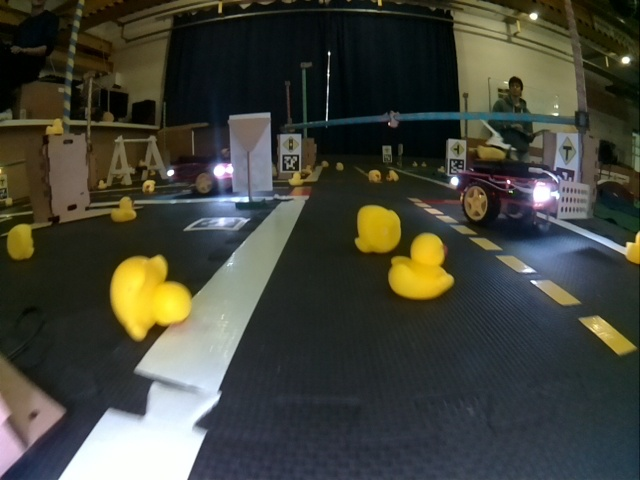Duckie: (111, 254, 190, 339), (389, 235, 454, 299), (355, 205, 400, 251), (8, 225, 35, 256), (110, 197, 135, 222), (46, 119, 62, 133), (290, 172, 302, 184), (142, 180, 154, 191), (370, 170, 381, 182), (388, 170, 398, 180), (336, 163, 344, 170)
Duckiebot: (458, 163, 590, 226), (167, 157, 233, 193)
Intersection sign: (557, 135, 578, 163), (450, 140, 466, 156)
QR code: (184, 217, 250, 230), (282, 154, 300, 170), (449, 159, 466, 173)
Signal sign: (282, 136, 300, 152)
